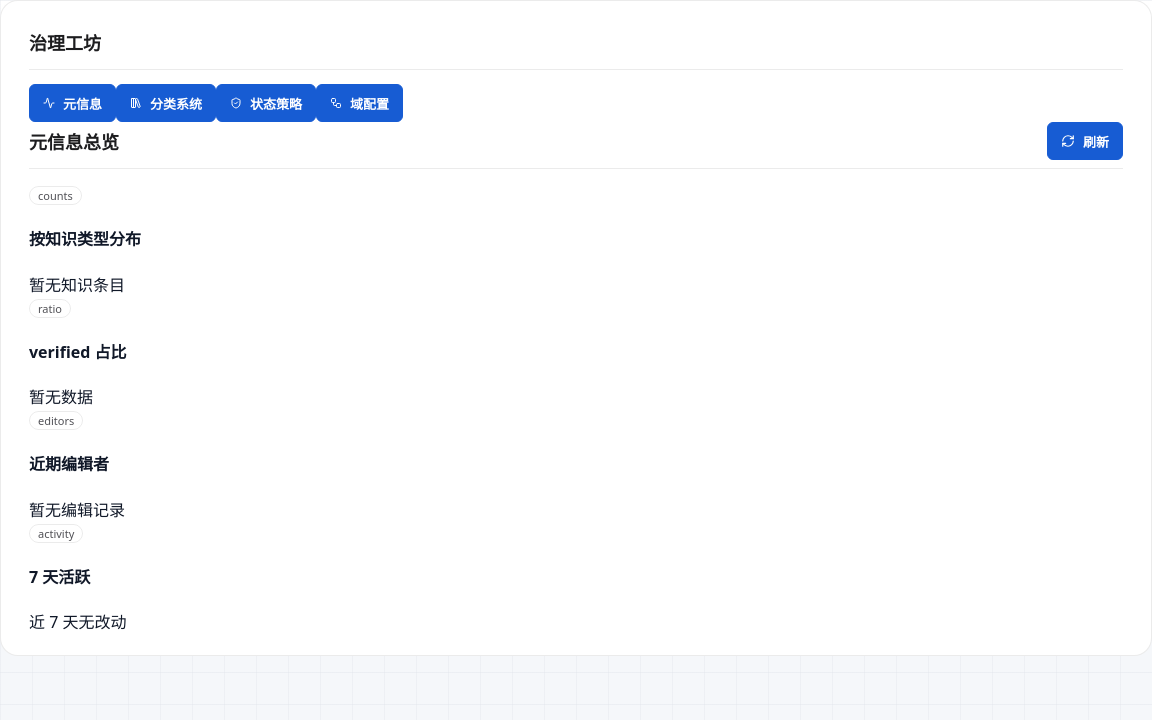
it: 治理工坊表格列宽约束 › 域配置 表的 colgroup 列数与表头一致（5 列）
What coordinates should you click on to do the following:
click the button "域配置"
I would click on:
 (360, 103)
Its box is [316, 84, 403, 122].
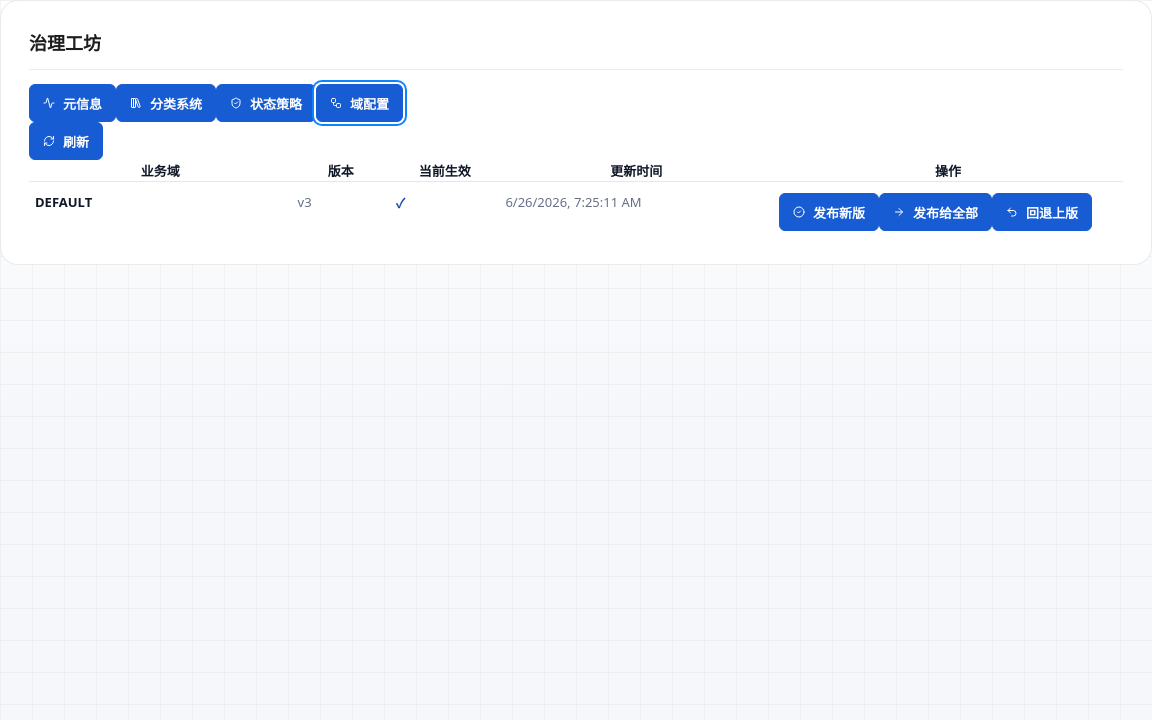
Now the number of column headings is 5, box [29, 160, 292, 182]; [292, 160, 390, 182]; [390, 160, 499, 182]; [499, 160, 773, 182]; [773, 160, 1123, 182]
